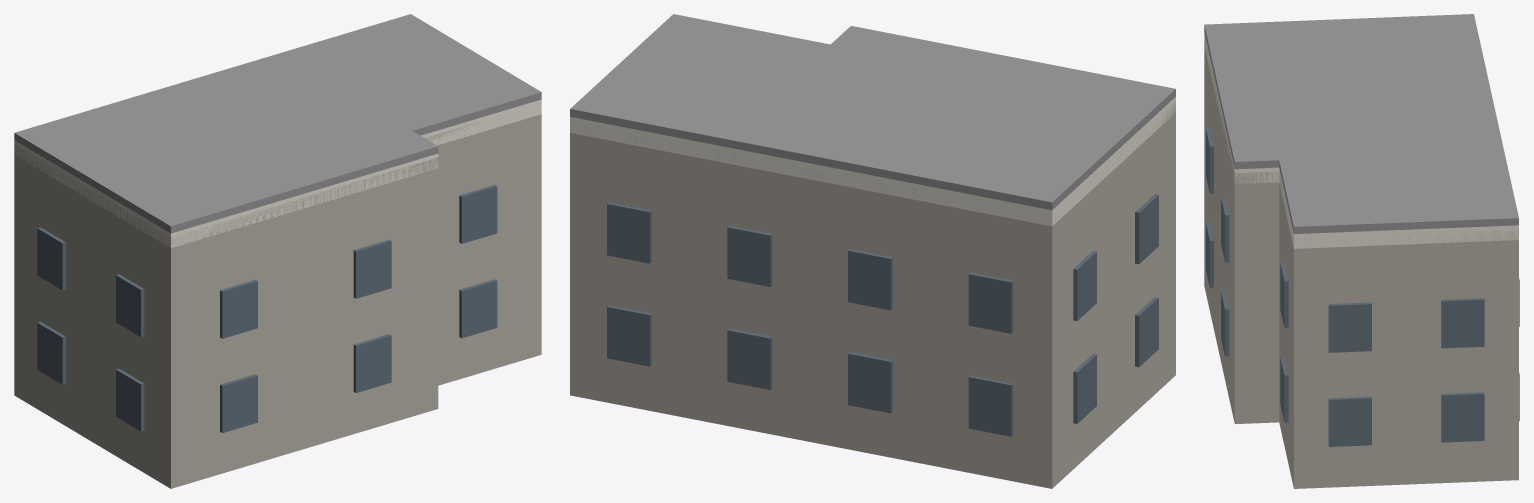
Rendered from s10_gis_247975_820830.glb.
The picture shows the model from 3 angles, left to right: view 1: azimuth 30°, elevation 25°; view 2: azimuth 150°, elevation 25°; view 3: azimuth 270°, elevation 25°; orthographic projection. The views are drawn at different scales.
Visible parts, largest first — view 1: mass, roofcap, cornice, win_0_0_0, win_4_1_1, win_0_1_0, win_4_0_1, win_4_1_0, win_4_0_0, win_3_0_1, win_3_0_0, win_3_1_0 (+1 smaller); view 2: mass, roofcap, cornice, win_2_1_1, win_2_0_1, win_2_1_3, win_2_0_3, win_2_0_0, win_2_1_0, win_2_0_2, win_2_1_2, win_3_0_1 (+3 smaller); view 3: mass, roofcap, cornice, win_1_0_1, win_1_1_0, win_1_0_0, win_1_1_1, win_0_0_0, win_0_1_0, win_4_0_1, win_4_1_1, win_4_0_0 (+1 smaller).
Boxes of the visible parts, x1,y1,x2,y2 form: mass: [14, 114, 541, 488]; roofcap: [14, 14, 541, 233]; cornice: [14, 99, 541, 248]; win_0_0_0: [459, 279, 497, 338]; win_4_1_1: [353, 240, 391, 298]; win_0_1_0: [459, 185, 497, 243]; win_4_0_1: [353, 334, 391, 392]; win_4_1_0: [220, 279, 257, 338]; win_4_0_0: [220, 374, 257, 432]; win_3_0_1: [116, 368, 144, 431]; win_3_0_0: [37, 321, 65, 384]; win_3_1_0: [37, 227, 65, 290]; mass: [570, 103, 1175, 488]; roofcap: [570, 14, 1175, 210]; cornice: [570, 97, 1175, 226]; win_2_1_1: [727, 225, 772, 286]; win_2_0_1: [727, 328, 772, 389]; win_2_1_3: [968, 272, 1013, 333]; win_2_0_3: [968, 375, 1013, 436]; win_2_0_0: [607, 305, 651, 366]; win_2_1_0: [607, 202, 651, 263]; win_2_0_2: [848, 352, 892, 413]; win_2_1_2: [848, 249, 892, 310]; win_3_0_1: [1135, 297, 1158, 367]; mass: [1204, 41, 1518, 488]; roofcap: [1204, 14, 1518, 233]; cornice: [1204, 32, 1518, 248]; win_1_0_1: [1441, 392, 1484, 442]; win_1_1_0: [1328, 302, 1371, 352]; win_1_0_0: [1328, 396, 1371, 446]; win_1_1_1: [1441, 298, 1484, 348]; win_0_0_0: [1280, 357, 1288, 422]; win_0_1_0: [1280, 263, 1288, 328]; win_4_0_1: [1221, 291, 1229, 356]; win_4_1_1: [1221, 197, 1229, 262]; win_4_0_0: [1206, 222, 1213, 287].
Bounding box in the file's own units: 14.58 × 8.35 × 9.1.
